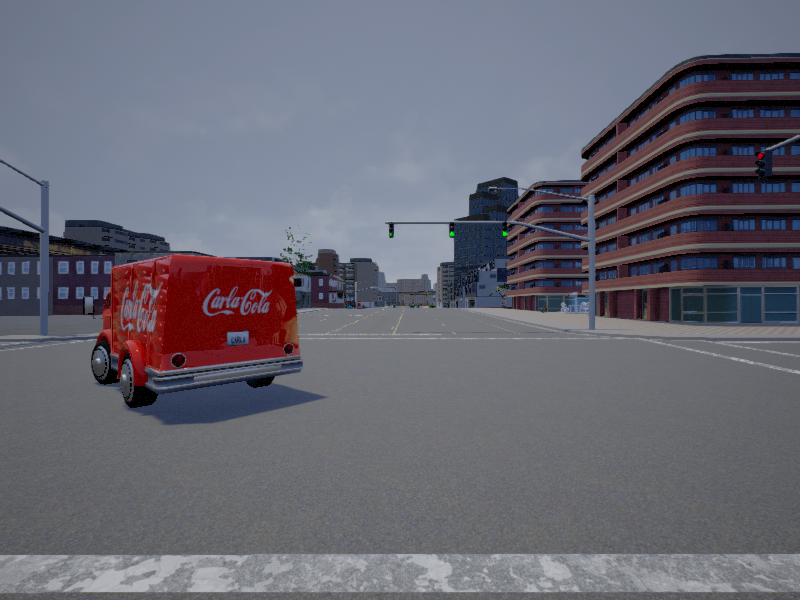Benign: (89, 256, 303, 407)
